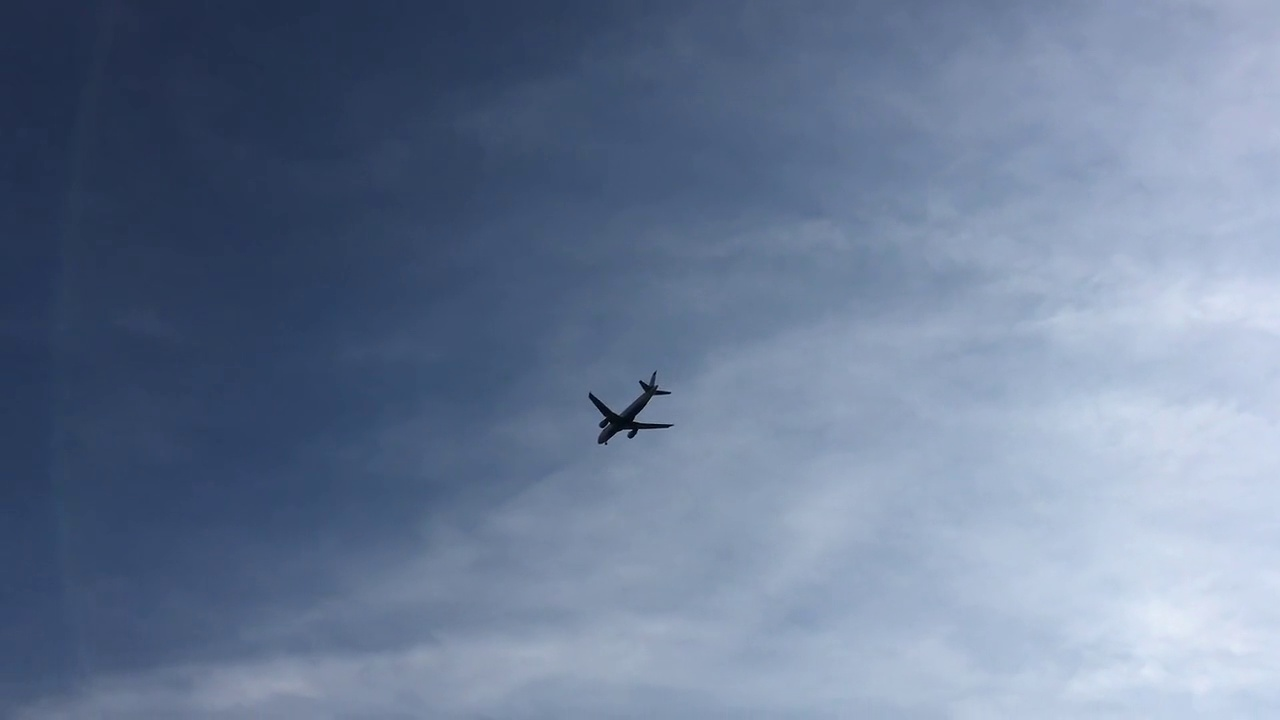plane: (586, 371, 675, 447)
